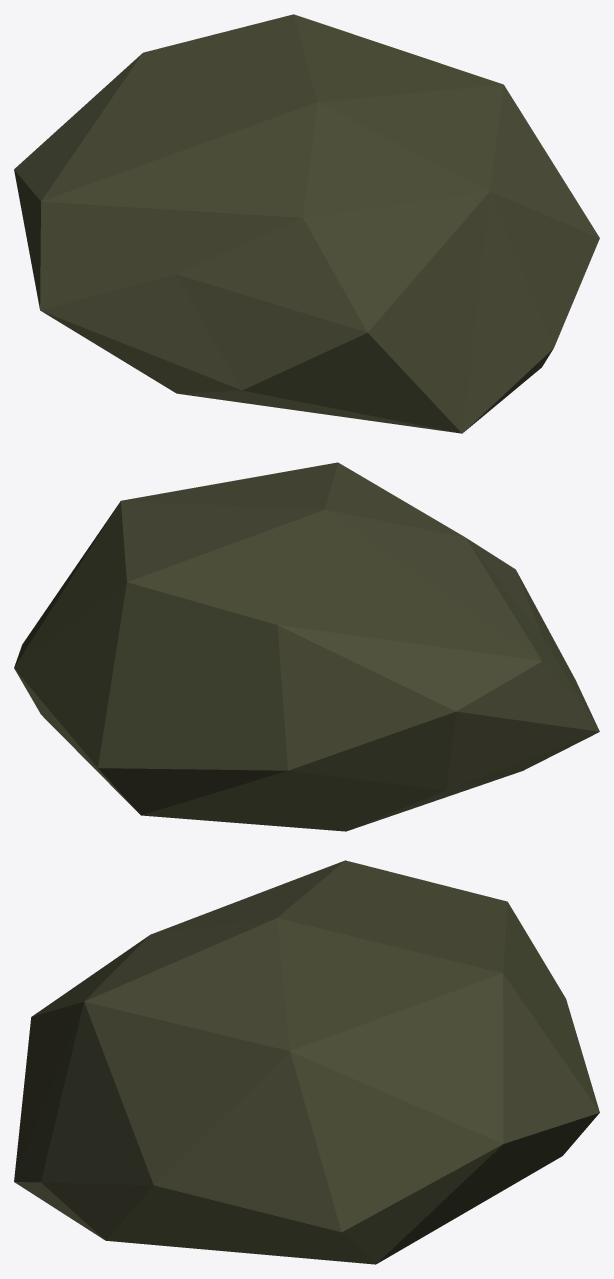
Rendered from bush1.fbx.
3 renders of one model, top to bottom at view 1: azimuth 30°, elevation 25°; view 2: azimuth 150°, elevation 25°; view 3: azimuth 270°, elevation 25°, orthographic. The views are drawn at different scales.
Parts seen in each view (by area): view 1: bush_1; view 2: bush_1; view 3: bush_1.
Boxes of the visible parts, box(x1,y1,x2,y2) form: bush_1: box(14, 14, 599, 433); bush_1: box(14, 462, 599, 831); bush_1: box(14, 860, 599, 1264).
Bounding box in the file's own units: 356 × 155 × 323.
